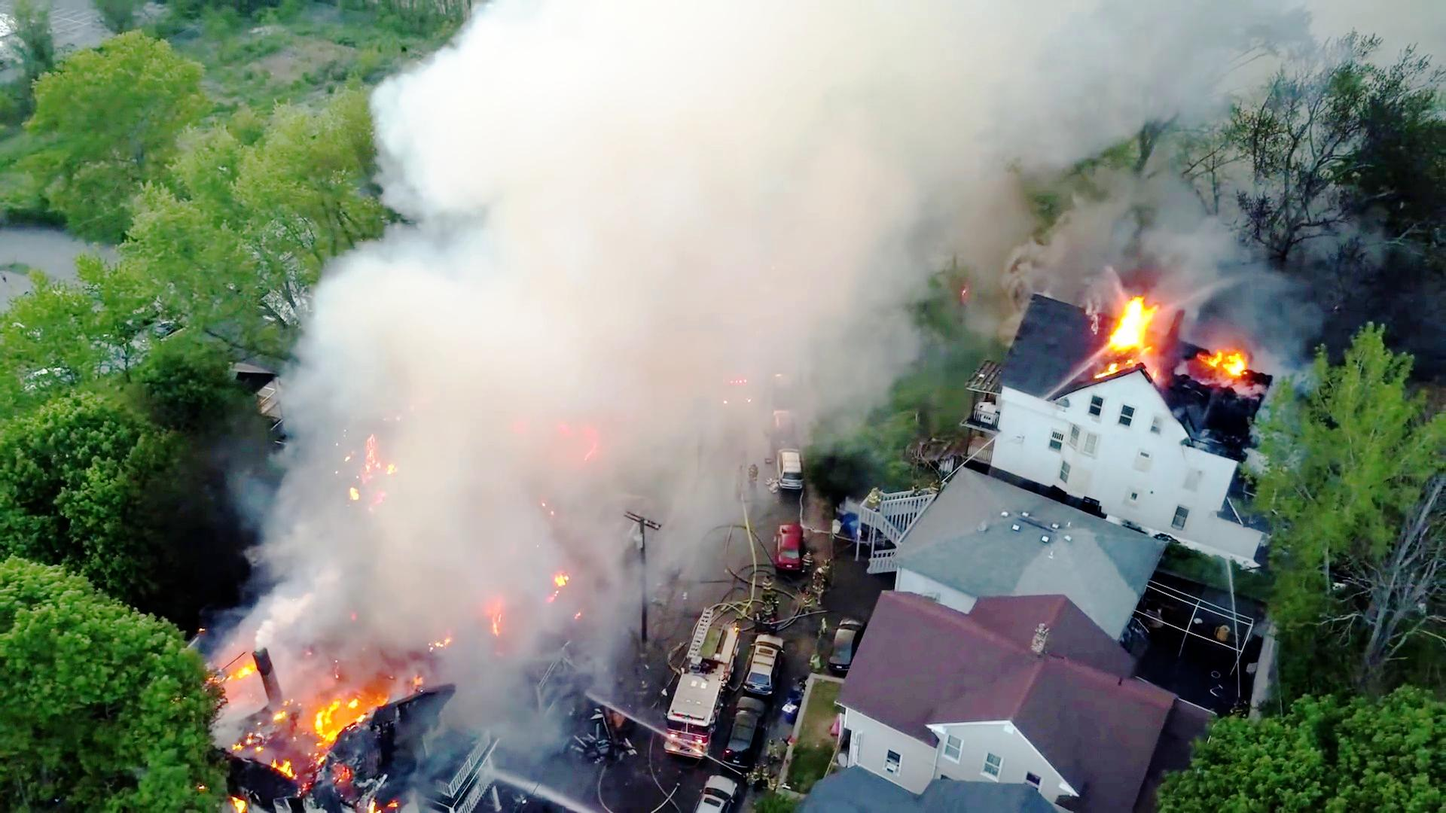fire: (304, 679, 374, 747), (1095, 281, 1147, 360)
smoke: (537, 13, 1075, 208), (478, 248, 668, 449)
